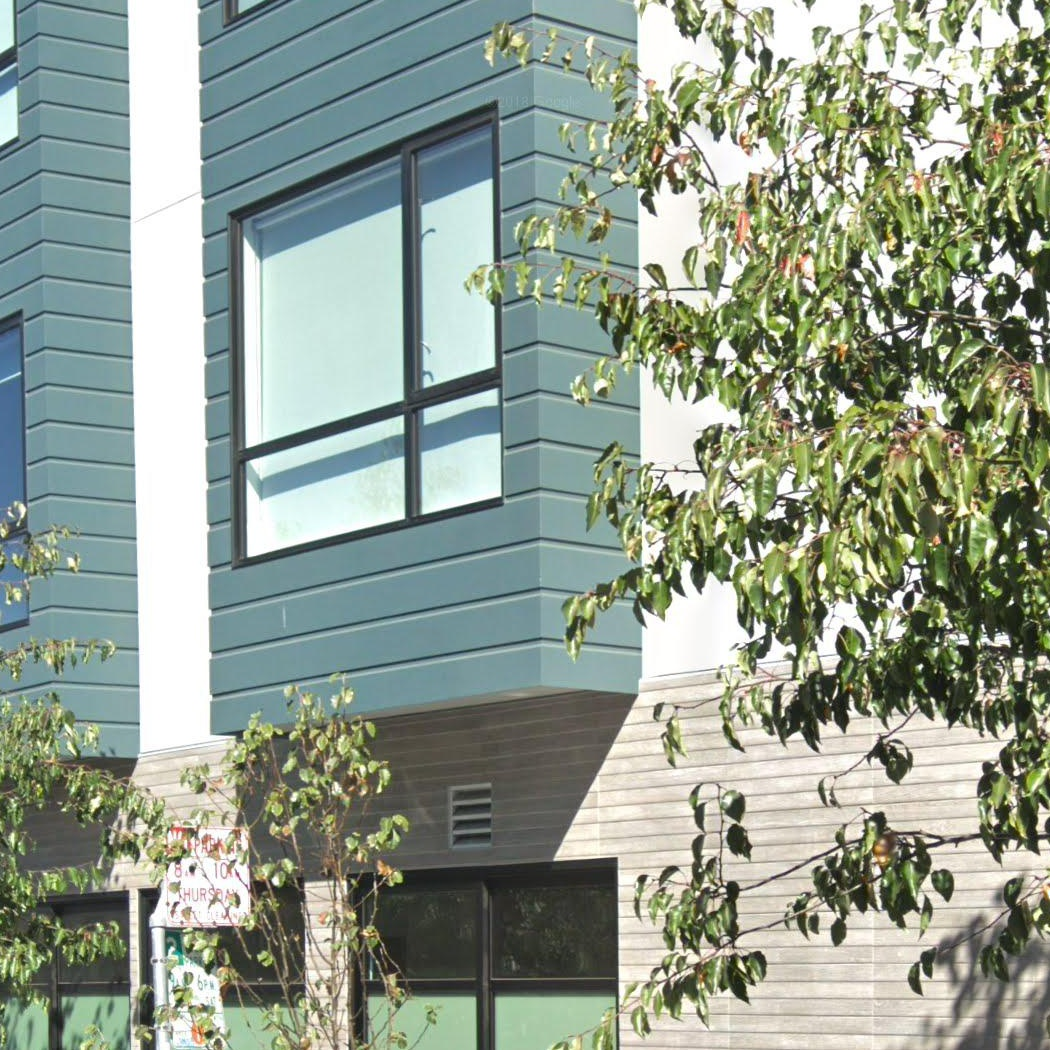No Parking: (158, 824, 254, 928), (163, 931, 228, 1048)
